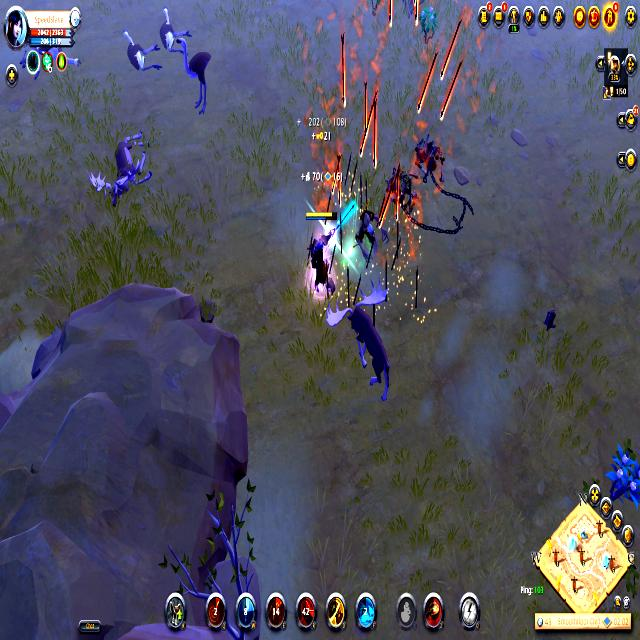hide: (606, 435, 640, 513), (416, 2, 439, 49)
mob: (90, 128, 155, 210), (119, 26, 165, 77), (161, 3, 185, 55)
ore: (326, 282, 402, 416), (173, 34, 217, 119), (352, 204, 392, 266)
red: (301, 202, 337, 298)
